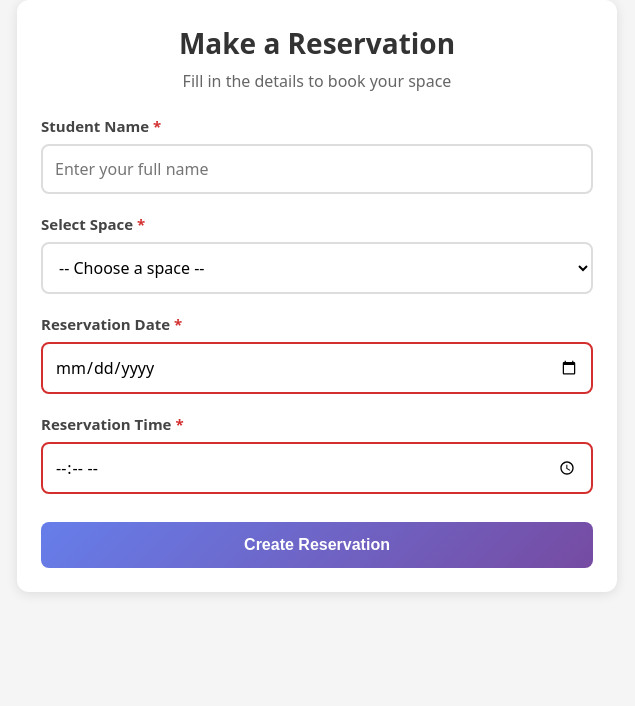
ReservationForm Component › should display space details in the image preview
// Select a space
Select "Classrooms (Education) - Capacity: 30" in the dropdown labelled "Select Space *". click: (317, 268)
box: [41,242,593,294]
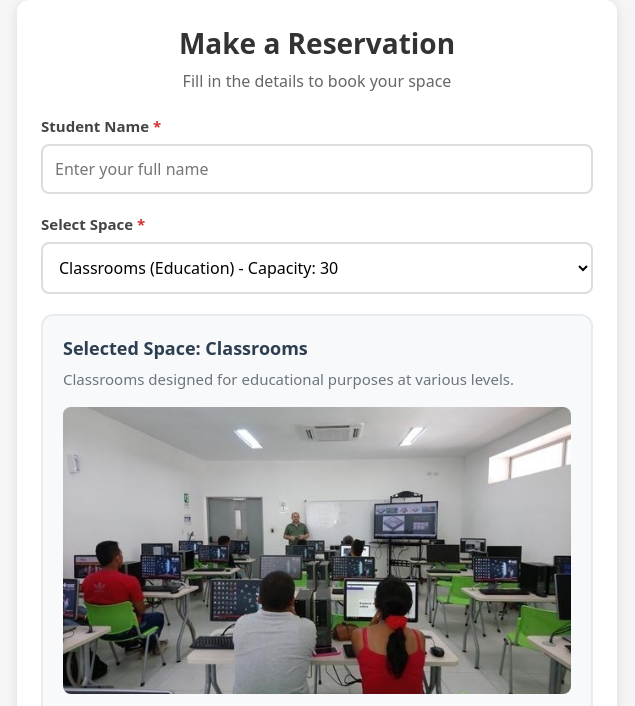
Now the heading "Selected Space: Classrooms" is shown, box [63,336,308,360]
